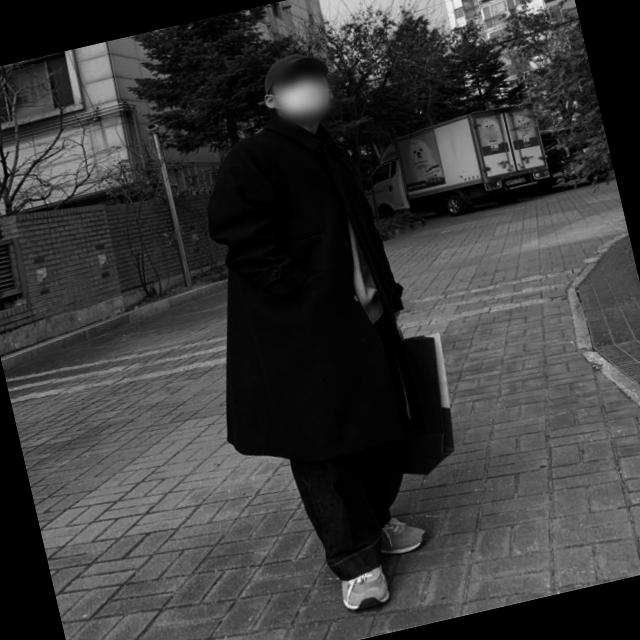coat: (156, 97, 438, 480)
denimpants: (259, 304, 448, 584)
